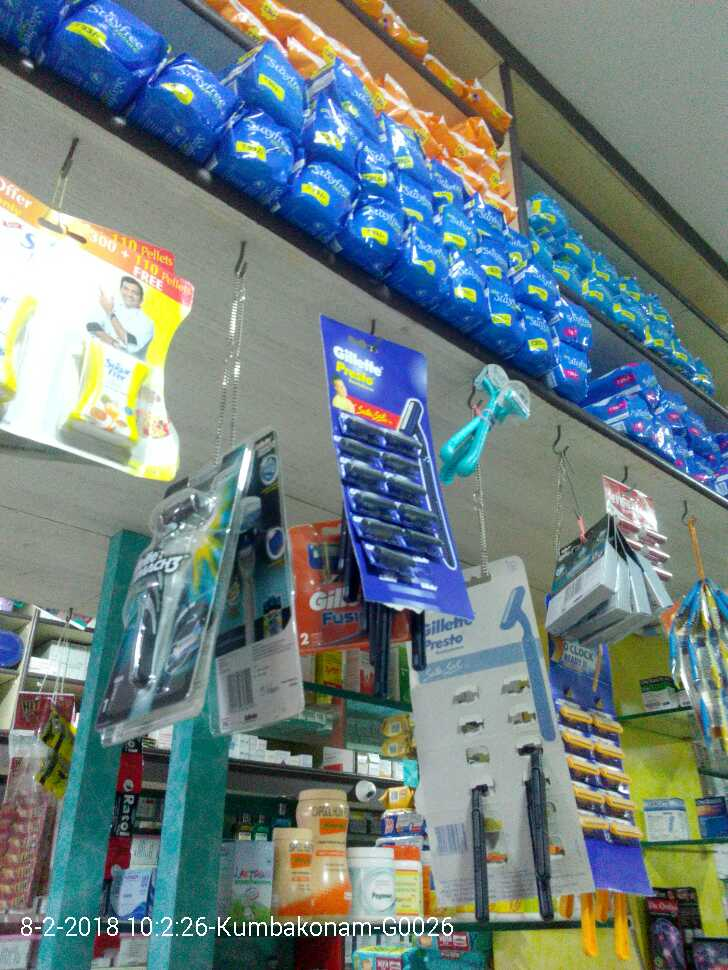gillette: (323, 321, 467, 619), (110, 479, 227, 718)
